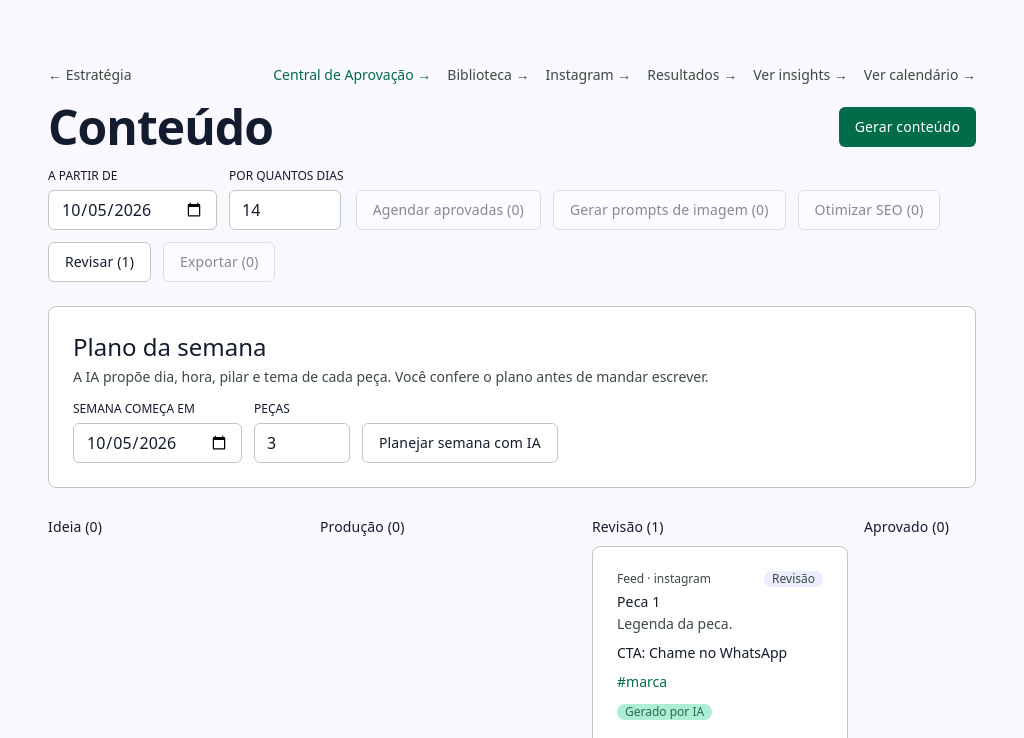
revisar: o estado de geração fala do reviewer, não do copywriter
Step 1. Click the button "Revisar (1)" → (100, 262), box [48,242,151,282]
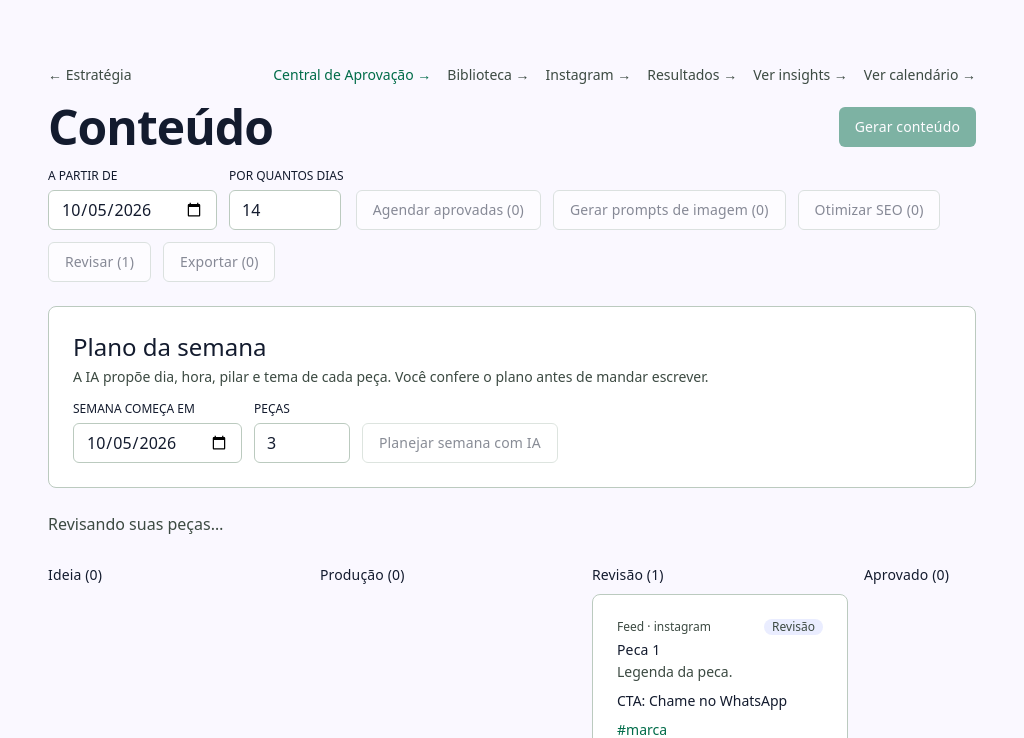
Now the text "Revisando suas peças…" is shown, box [48,513,223,535]
